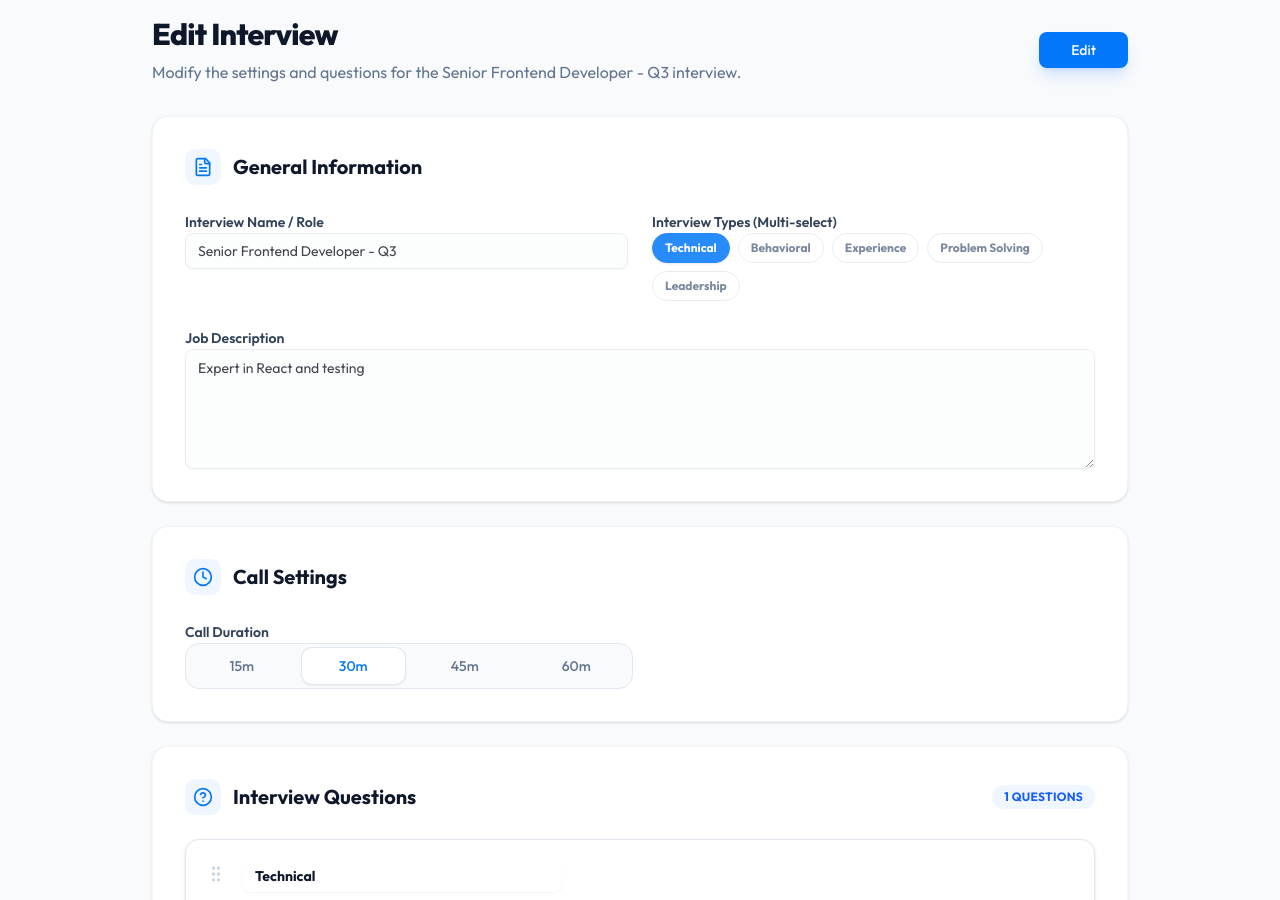
Test: InterviewDetailsPage › shows success modal on save
Click the button "Edit" at {"x": 1084, "y": 50}, box [1039, 32, 1128, 68]
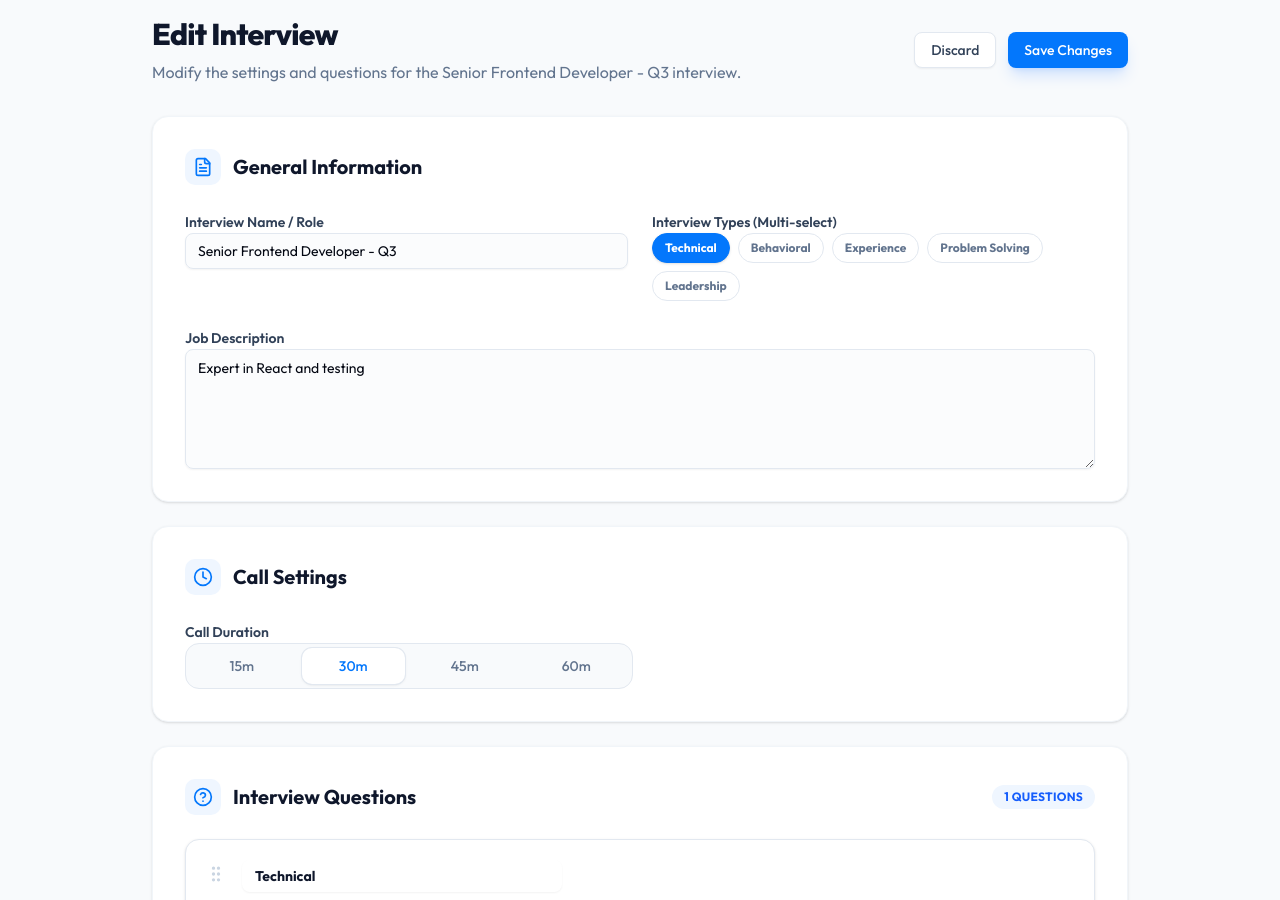
Click the button "Save Changes" at {"x": 1068, "y": 50}, box [1008, 32, 1128, 68]
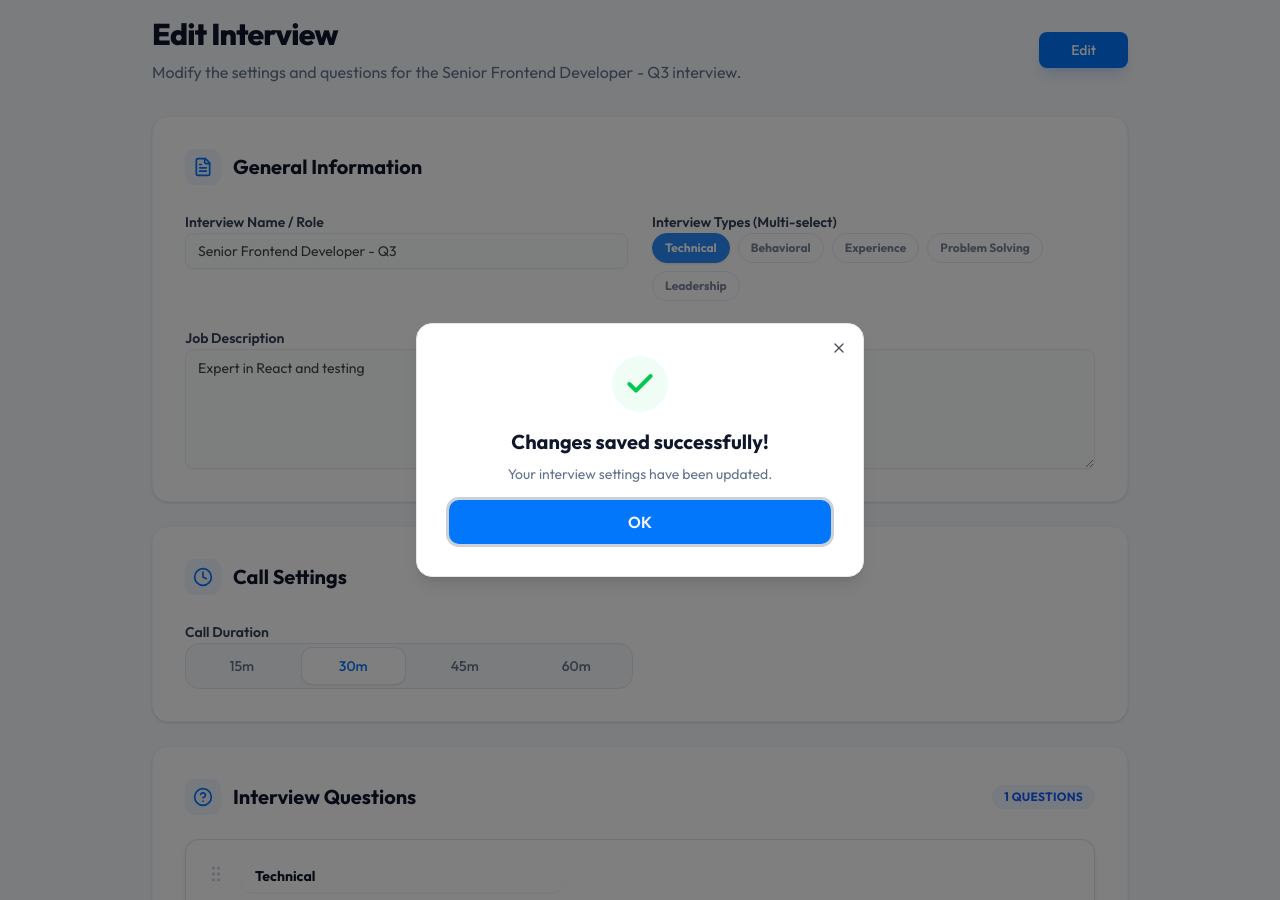
Result: the heading "Changes saved successfully!" is shown at [511, 428, 769, 456]
